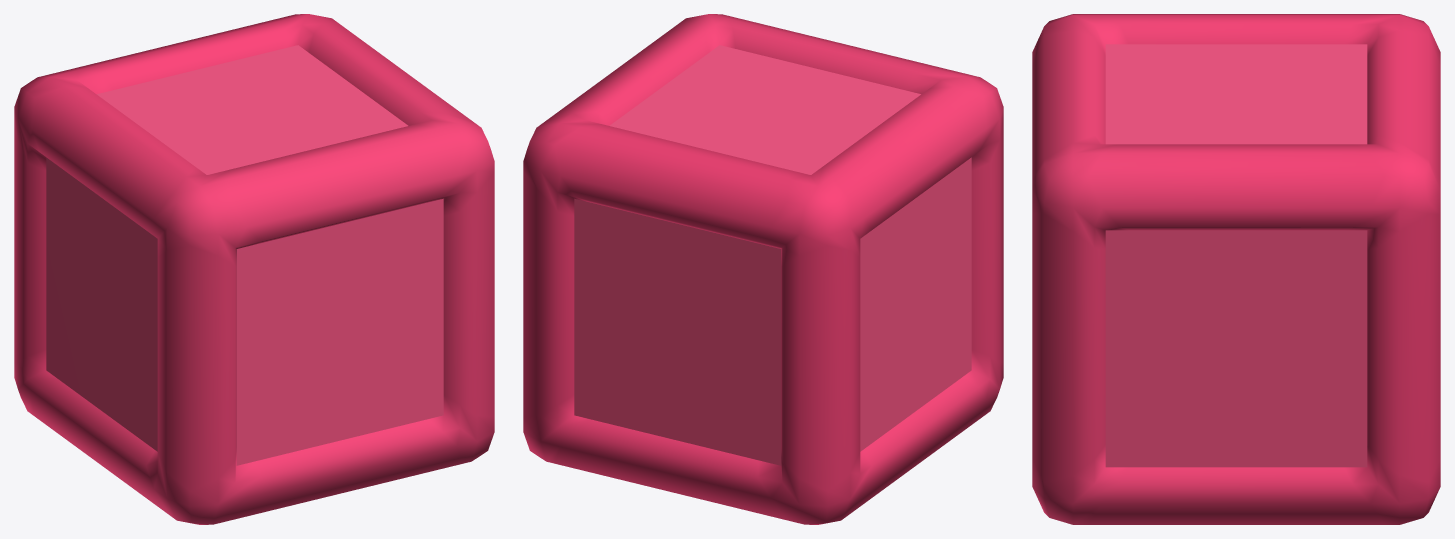
File: Block_Pink.fbx
The picture shows the model from 3 angles, left to right: view 1: azimuth 30°, elevation 25°; view 2: azimuth 150°, elevation 25°; view 3: azimuth 270°, elevation 25°; orthographic projection. The views are drawn at different scales.
Visible parts, largest first — view 1: Block_Pink; view 2: Block_Pink; view 3: Block_Pink.
Boxes of the visible parts, x1,y1,x2,y2 form: Block_Pink: (14, 14, 494, 524); Block_Pink: (523, 14, 1003, 524); Block_Pink: (1032, 14, 1440, 524).
Bounding box in the file's own units: 100 × 100 × 100.
